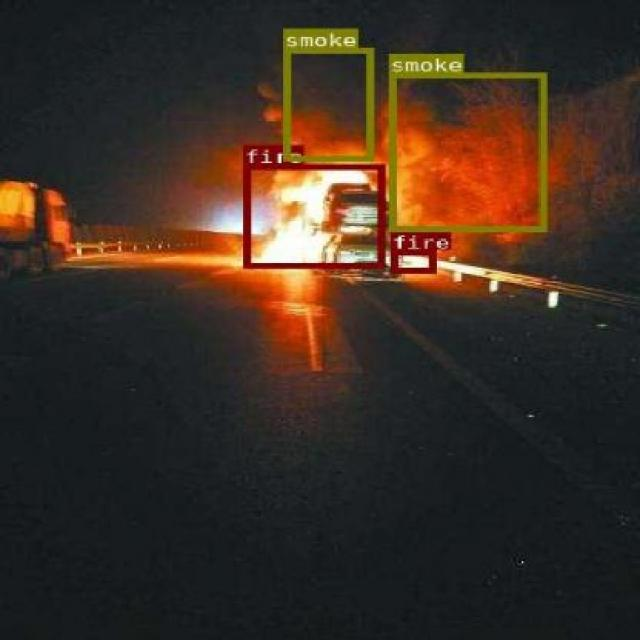Fire: (243, 164, 383, 268), (390, 250, 435, 272)
Smoke: (388, 72, 544, 231), (282, 46, 372, 160)
